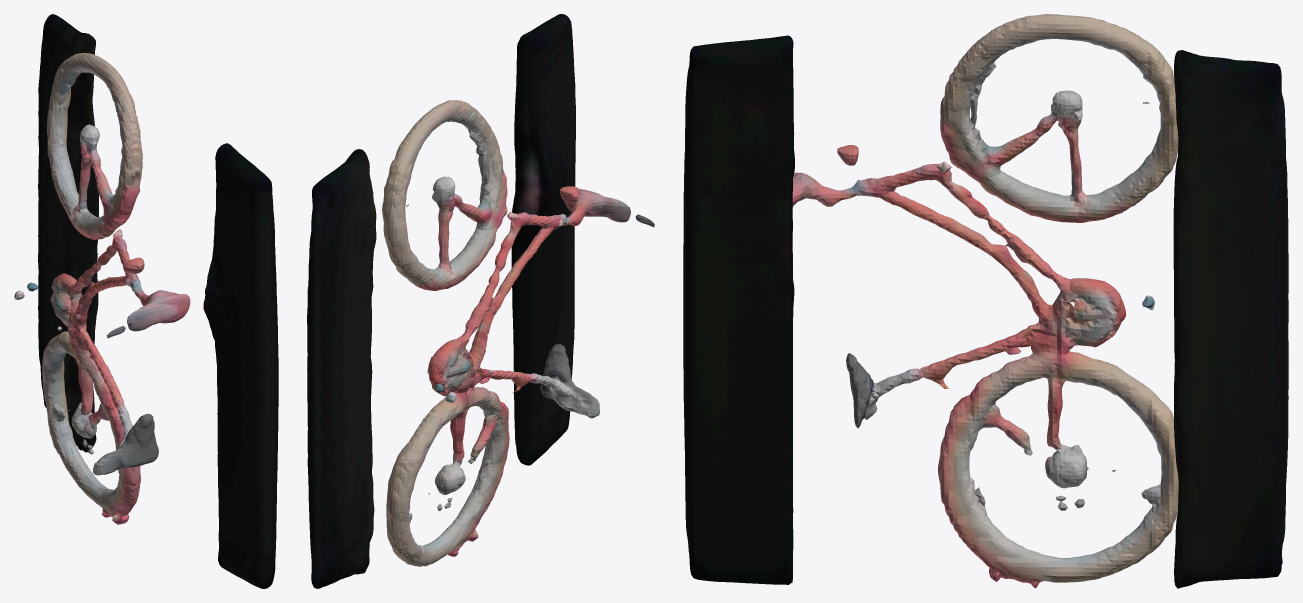
File: 000017_bicycle_transportation_bike.glb
3 renders of one model, left to right at view 1: azimuth 30°, elevation 25°; view 2: azimuth 150°, elevation 25°; view 3: azimuth 270°, elevation 25°, orthographic. The views are drawn at different scales.
Visible parts, largest first — view 1: world; view 2: world; view 3: world.
Part boxes in pixels (<box>): world: <box>14,14,278,588</box>; world: <box>307,14,654,588</box>; world: <box>683,14,1288,588</box>.
Bounding box in the file's own units: 0.3503 × 1 × 0.9557.
